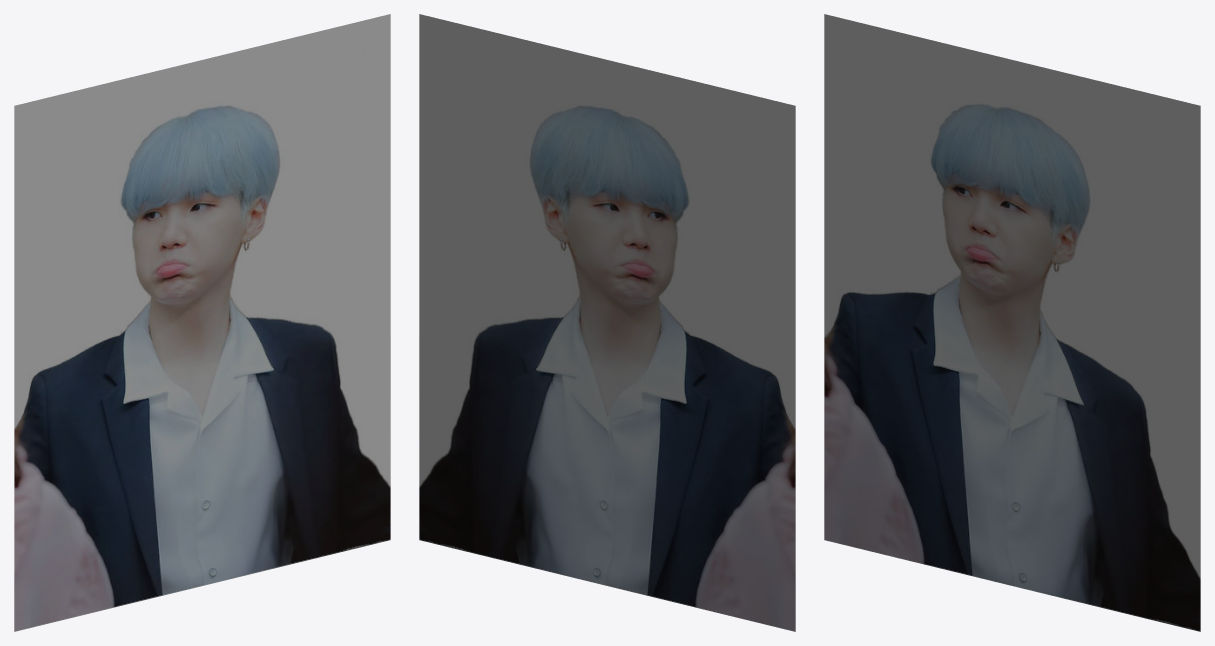
Rendered from suga 3d chanam gholy_prev_ui.glb.
The picture shows the model from 3 angles, left to right: view 1: azimuth 30°, elevation 25°; view 2: azimuth 150°, elevation 25°; view 3: azimuth 330°, elevation 25°; orthographic projection.
Parts seen in each view (by area): view 1: Layer 1 Mesh; view 2: Layer 1 Mesh; view 3: Layer 1 Mesh.
Boxes of the visible parts, bbox=[...] form: Layer 1 Mesh: bbox=[14, 14, 390, 631]; Layer 1 Mesh: bbox=[419, 14, 795, 631]; Layer 1 Mesh: bbox=[824, 14, 1200, 631].
Bounding box in the file's own units: 0.7487 × 1 × 0.
Materials: 1 (1 with a texture image).
